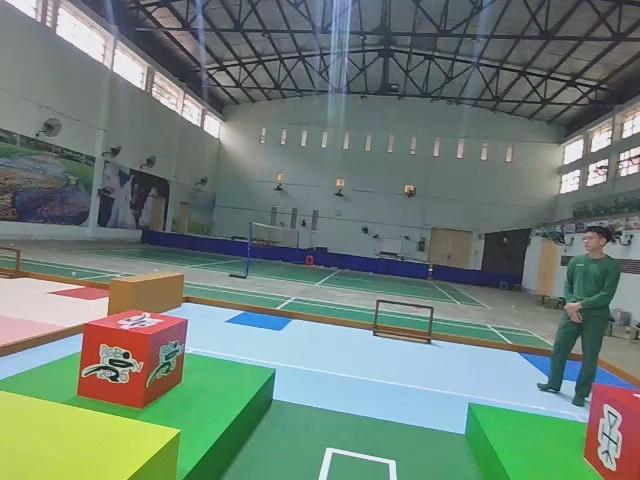R1: (77, 307, 189, 410)
R2 Real: (579, 380, 640, 480)
